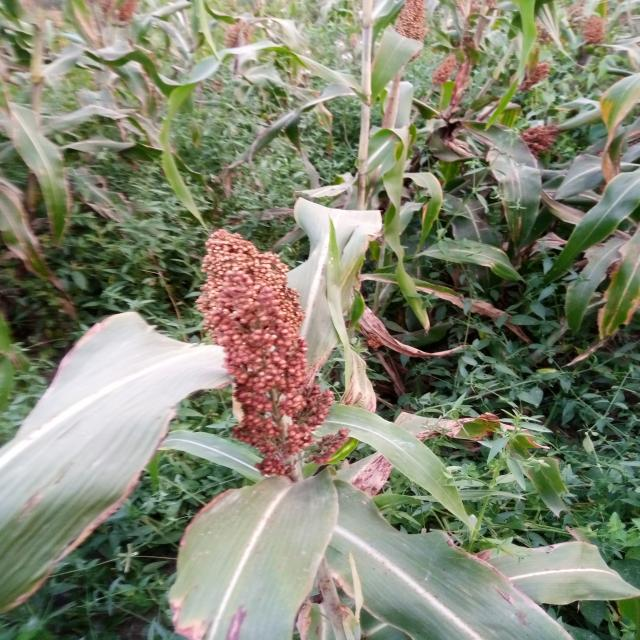RipeSorghum: (174, 204, 356, 470)
